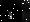person: (6, 9, 12, 19)
